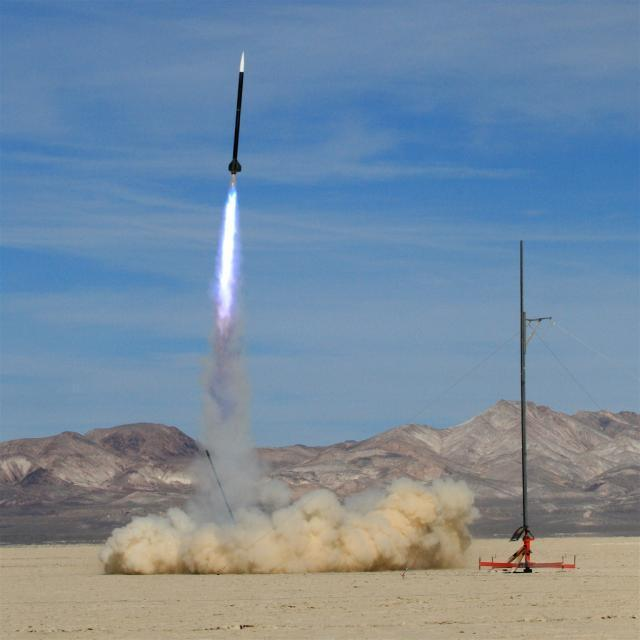missile: (224, 46, 254, 178)
